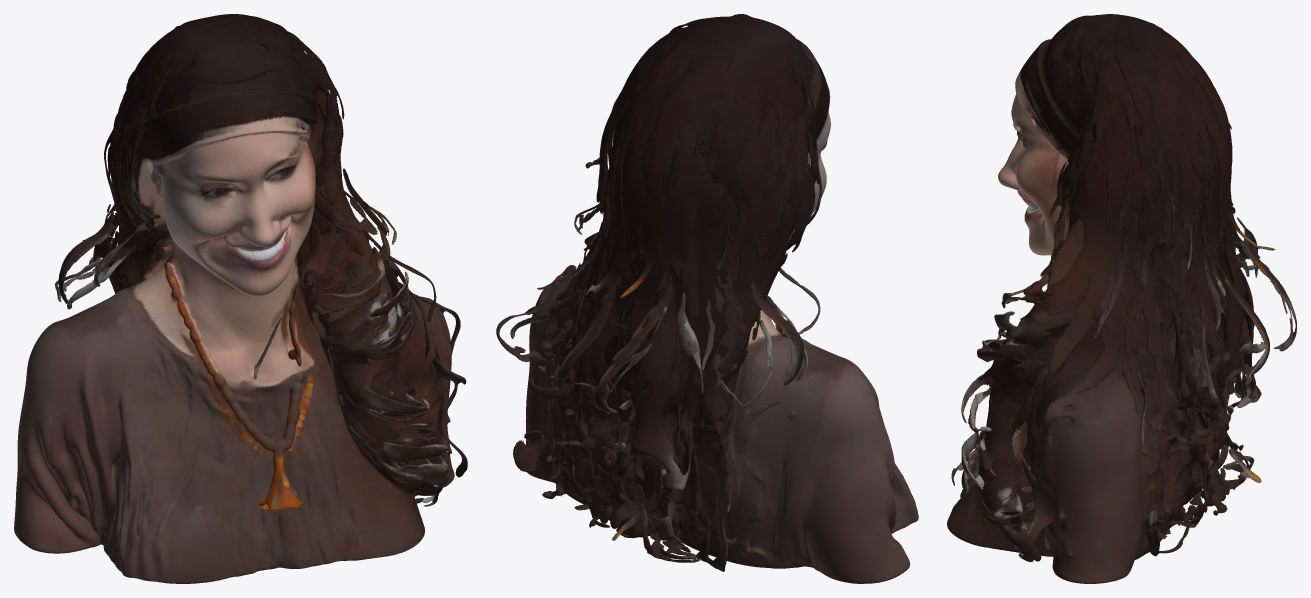
Rendered from 3dmodel.glb.
The picture shows the model from 3 angles, left to right: view 1: azimuth 30°, elevation 25°; view 2: azimuth 150°, elevation 25°; view 3: azimuth 270°, elevation 25°; orthographic projection. The views are drawn at different scales.
Parts seen in each view (by area): view 1: tripo_node_eecca641-4daa-4727-90c4-c12c7375e8c2; view 2: tripo_node_eecca641-4daa-4727-90c4-c12c7375e8c2; view 3: tripo_node_eecca641-4daa-4727-90c4-c12c7375e8c2.
Part boxes in pixels (x1=…): tripo_node_eecca641-4daa-4727-90c4-c12c7375e8c2: x1=14, y1=14, x2=467, y2=583; tripo_node_eecca641-4daa-4727-90c4-c12c7375e8c2: x1=496, y1=14, x2=918, y2=583; tripo_node_eecca641-4daa-4727-90c4-c12c7375e8c2: x1=947, y1=14, x2=1296, y2=583.
Size of the model in its own units: 0.8556 by 1 by 0.6867.
1 material, 1 textured.
